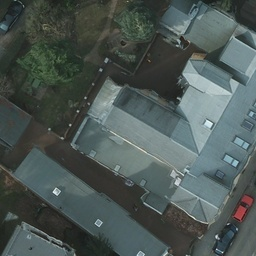car: (213, 222, 238, 256), (1, 2, 23, 31), (232, 194, 252, 221)
